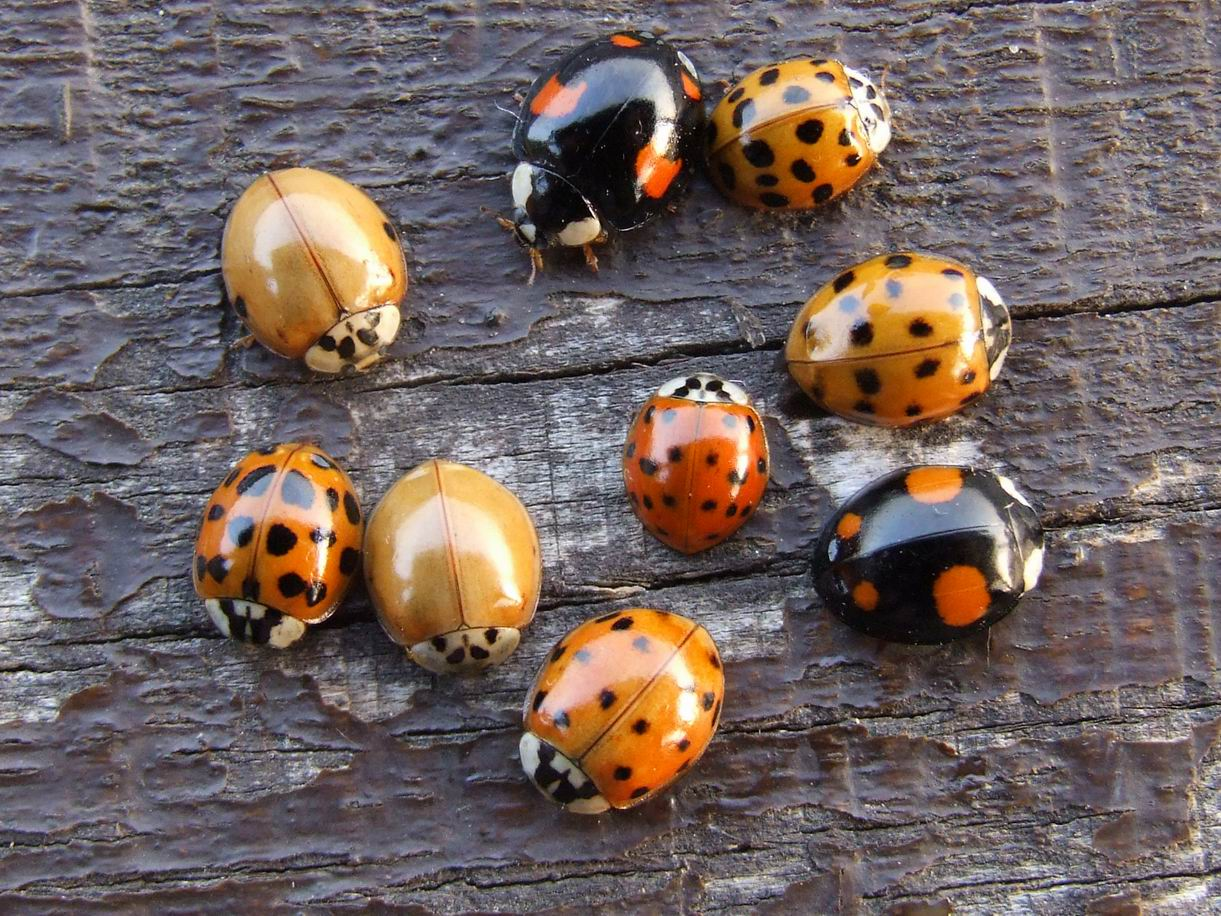red: (209, 159, 409, 383), (518, 608, 726, 815), (785, 256, 1009, 426), (188, 439, 362, 652), (366, 457, 540, 665), (701, 56, 894, 216), (621, 368, 772, 554)
two_spots_mutant: (512, 30, 711, 271), (808, 460, 1046, 643)
